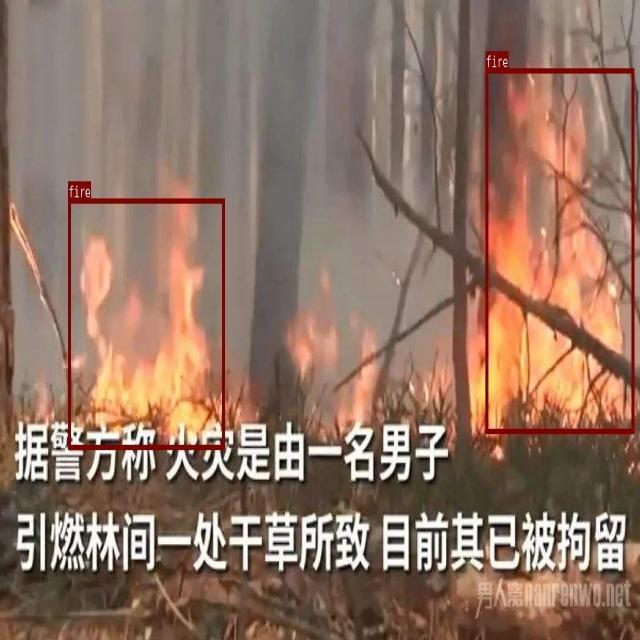fire: (485, 68, 634, 433), (67, 198, 224, 449)
